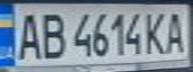1: (109, 9, 127, 56)
4: (69, 8, 93, 59), (124, 9, 145, 55)
6: (90, 9, 112, 57)
A: (12, 9, 45, 61), (163, 8, 190, 55)
B: (36, 9, 69, 60)
K: (142, 8, 169, 55)
